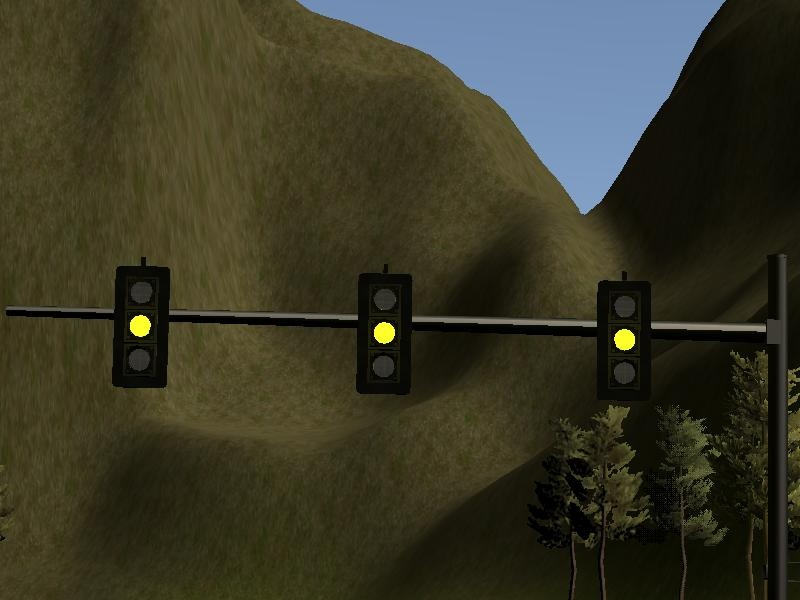YELLOW: (113, 264, 170, 387), (595, 279, 649, 396), (358, 273, 411, 392)
